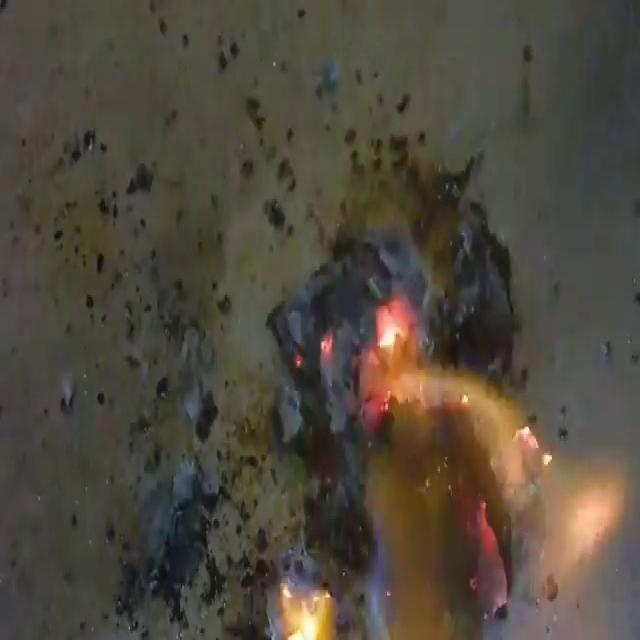Fire: (3, 4, 632, 636)
